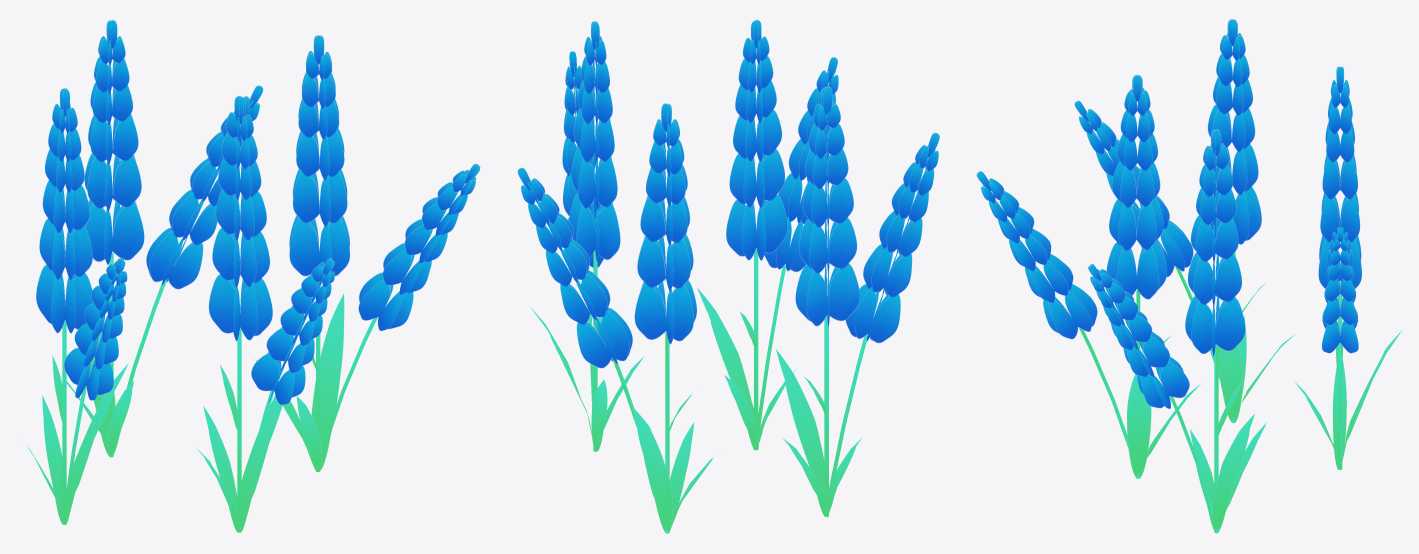
The model's file is Flowers_n03_06.glb.
The picture shows the model from 3 angles, left to right: view 1: azimuth 30°, elevation 25°; view 2: azimuth 150°, elevation 25°; view 3: azimuth 270°, elevation 25°; orthographic projection. The views are drawn at different scales.
Parts seen in each view (by area): view 1: polySurface470; view 2: polySurface470; view 3: polySurface470.
Boxes of the visible parts, x1,y1,x2,y2 form: polySurface470: (20, 19, 480, 532); polySurface470: (517, 19, 939, 533); polySurface470: (976, 19, 1401, 533).
Bounding box in the file's own units: 0.8048 × 0.8923 × 0.8457.
1 material, 1 textured.
